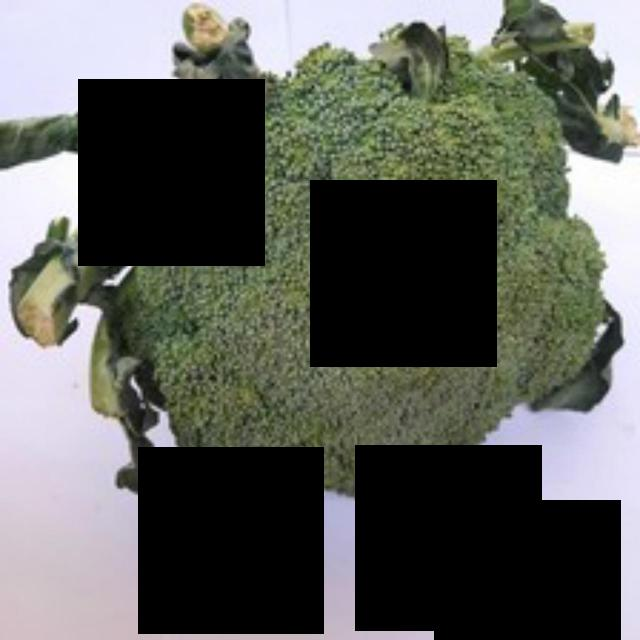broccoli: (105, 48, 627, 535)
